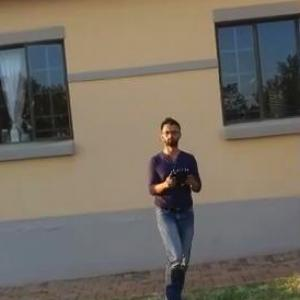follow: (144, 112, 209, 299)
